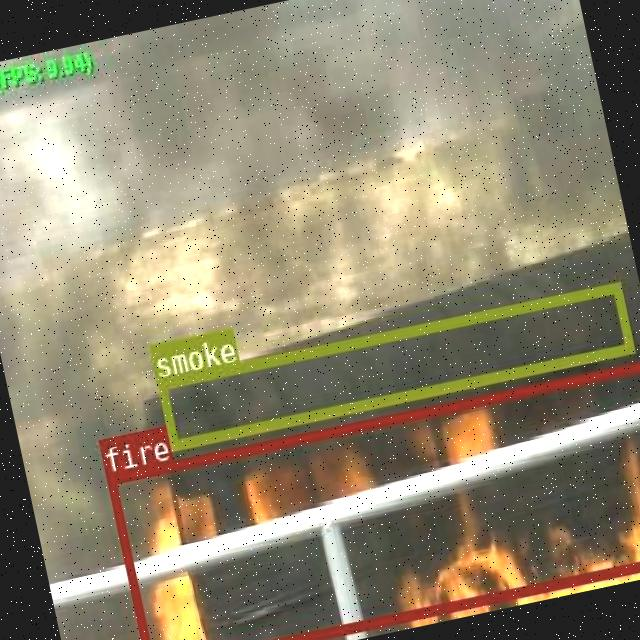fire: (105, 358, 640, 640)
smoke: (156, 280, 632, 448)
